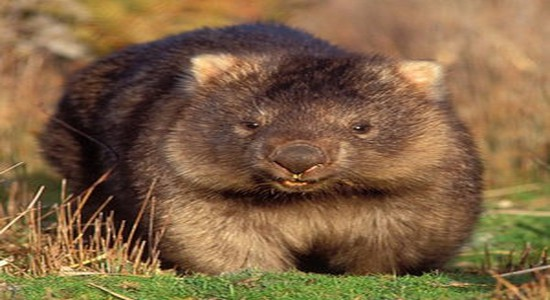Wombat: (41, 16, 485, 284)
